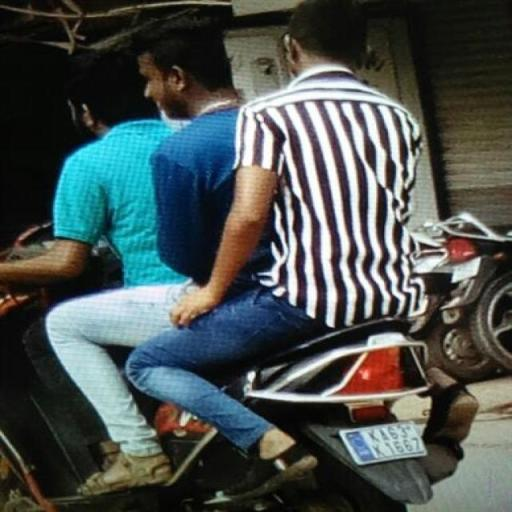tripple riding: (8, 0, 445, 324)
